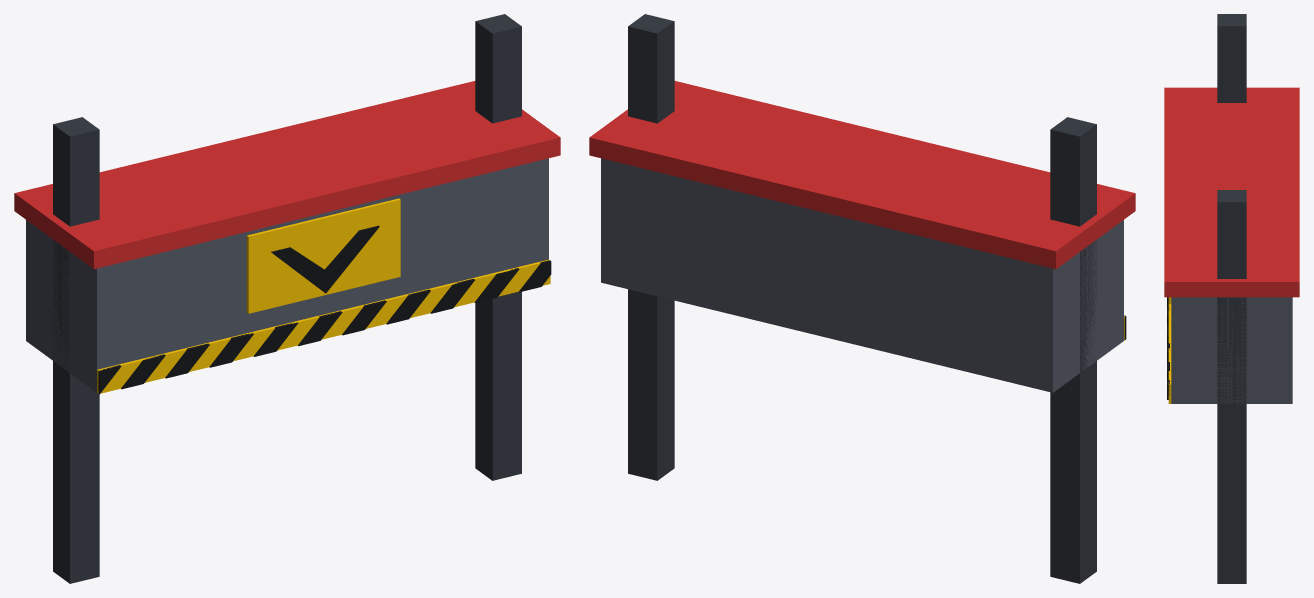
The model's file is duct.glb.
The picture shows the model from 3 angles, left to right: view 1: azimuth 30°, elevation 25°; view 2: azimuth 150°, elevation 25°; view 3: azimuth 270°, elevation 25°; orthographic projection. The views are drawn at different scales.
Visible parts, largest first — view 1: DuctBody; view 2: DuctBody; view 3: DuctBody.
Part boxes in pixels (bbox=[...]): DuctBody: bbox=[14, 14, 560, 583]; DuctBody: bbox=[589, 14, 1135, 583]; DuctBody: bbox=[1164, 14, 1299, 583].
Bounding box in the file's own units: 1.9 × 1.74 × 0.56.
